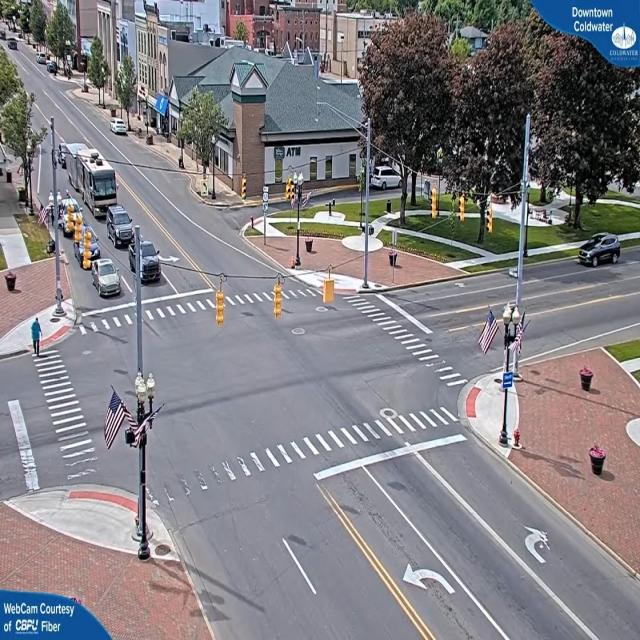car: (579, 235, 623, 267), (138, 240, 163, 284), (96, 260, 124, 299), (109, 208, 136, 248), (112, 119, 129, 136)
truck: (76, 160, 119, 218), (83, 242, 101, 272)
